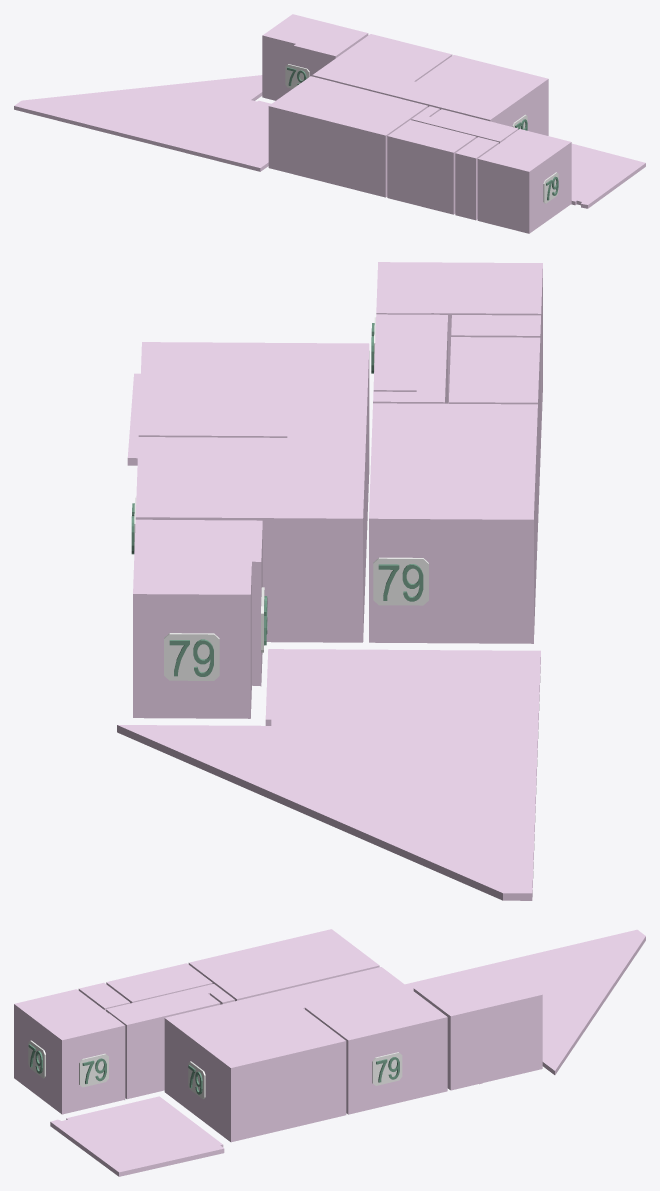
3 views of the same model, one above another, from view 1: azimuth 30°, elevation 25°; view 2: azimuth 150°, elevation 25°; view 3: azimuth 270°, elevation 25° (orthographic). The views are drawn at different scales.
Visible parts, largest first — view 1: g_9, g_2, g_3, g_0, g_4, g_1, g_7, g_8, g_5, g_6, g_21; view 2: g_9, g_2, g_1, g_7, g_0, g_3, g_6, g_4, g_5, g_27, g_12; view 3: g_0, g_1, g_7, g_3, g_9, g_8, g_2, g_6, g_4, g_5, g_15, g_18 (+2 smaller).
Boxes of the visible parts, x1=… form: g_9: x1=14, y1=75, x2=271, y2=171; g_2: x1=268, y1=76, x2=427, y2=197; g_3: x1=477, y1=129, x2=571, y2=233; g_0: x1=395, y1=55, x2=548, y2=135; g_4: x1=387, y1=120, x2=476, y2=214; g_1: x1=312, y1=34, x2=452, y2=97; g_7: x1=262, y1=14, x2=368, y2=100; g_8: x1=571, y1=143, x2=645, y2=208; g_5: x1=455, y1=137, x2=498, y2=220; g_6: x1=411, y1=106, x2=518, y2=143; g_21: x1=285, y1=64, x2=309, y2=88; g_9: x1=117, y1=649, x2=540, y2=900; g_2: x1=369, y1=403, x2=537, y2=643; g_1: x1=135, y1=436, x2=365, y2=642; g_7: x1=133, y1=519, x2=262, y2=718; g_0: x1=138, y1=342, x2=369, y2=557; g_3: x1=376, y1=262, x2=542, y2=437; g_6: x1=373, y1=314, x2=447, y2=403; g_4: x1=448, y1=337, x2=540, y2=522; g_5: x1=451, y1=315, x2=540, y2=457; g_27: x1=373, y1=557, x2=428, y2=605; g_12: x1=164, y1=633, x2=219, y2=680; g_0: x1=164, y1=990, x2=346, y2=1142; g_1: x1=280, y1=967, x2=447, y2=1114; g_7: x1=413, y1=968, x2=542, y2=1090; g_3: x1=14, y1=989, x2=125, y2=1114; g_9: x1=405, y1=929, x2=645, y2=1074; g_8: x1=50, y1=1096, x2=224, y2=1176; g_2: x1=188, y1=929, x2=379, y2=1001; g_6: x1=106, y1=984, x2=234, y2=1099; g_4: x1=106, y1=963, x2=212, y2=1003; g_5: x1=78, y1=982, x2=129, y2=1010; g_15: x1=372, y1=1052, x2=402, y2=1085; g_18: x1=79, y1=1053, x2=108, y2=1087.
Size of the model in its own units: 17.43 by 2.65 by 19.17.
